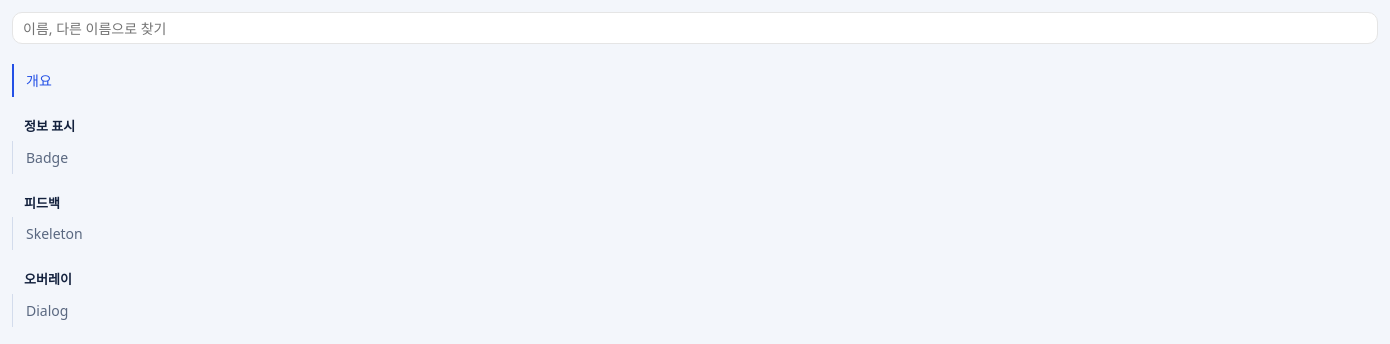
Test: ComponentNav › filters links by name, alias or description
This screenshot has width=1390, height=344.
Type "modal" into the search field named "컴포넌트 검색" at x=695, y=28, box [12,12,1378,44]
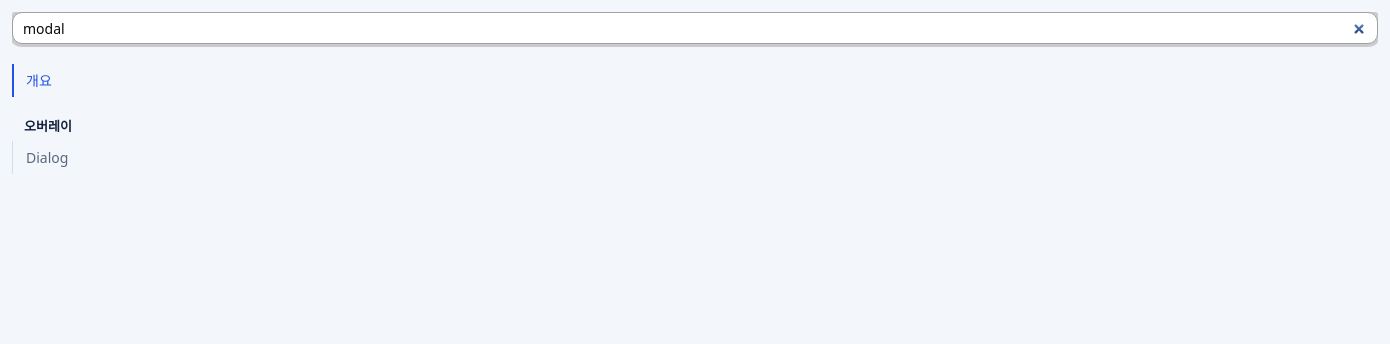
Check: the links read "개요", "Dialog", in this order, box [12,64,1378,97]; [26,148,68,166]
